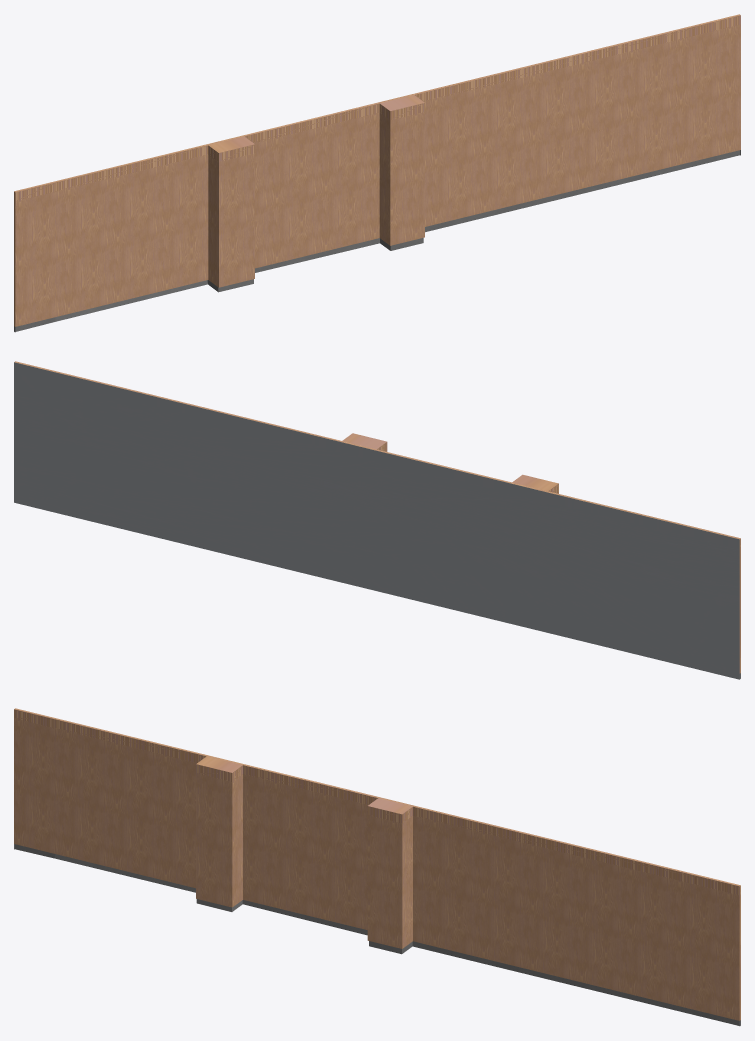
File: 317 오른벽.fbx
The picture shows the model from 3 angles, top to bottom: view 1: azimuth 30°, elevation 25°; view 2: azimuth 150°, elevation 25°; view 3: azimuth 330°, elevation 25°; orthographic projection.
Parts seen in each view (by area): view 1: 우측벽; view 2: 우측벽; view 3: 우측벽.
Boxes of the visible parts, <box> form: 우측벽: <box>14,14,740,332</box>; 우측벽: <box>14,361,740,679</box>; 우측벽: <box>14,708,740,1026</box>.
Size of the model in its own units: 2443 by 452 by 70.26.
